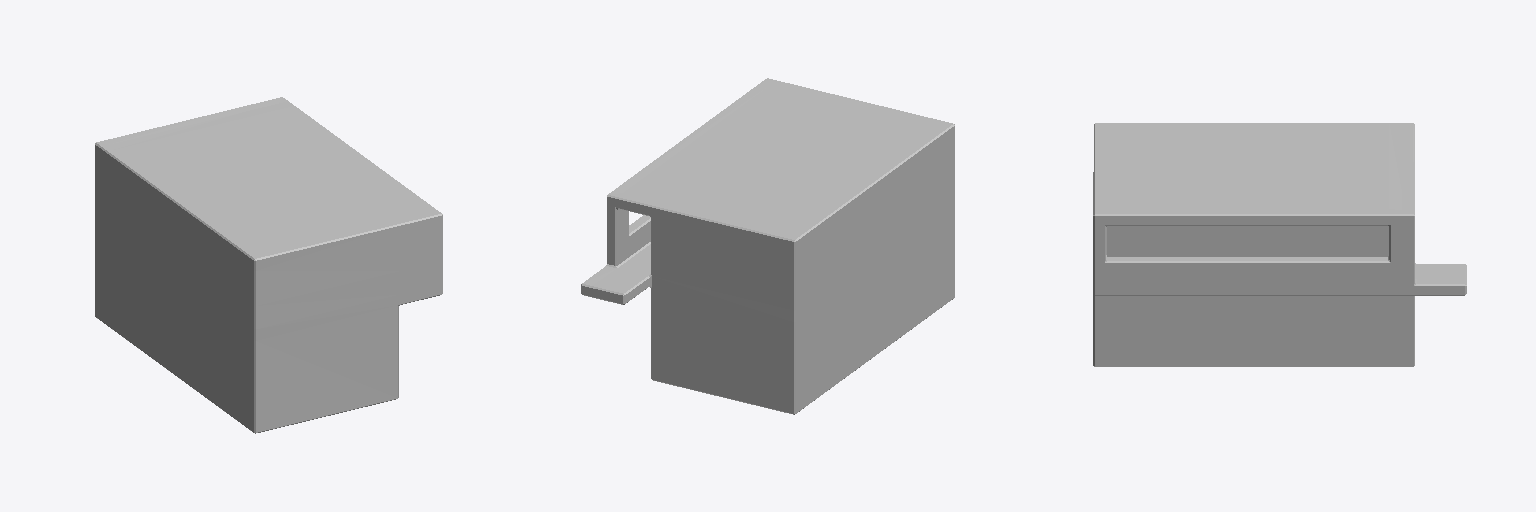
The model's file is Hostel.obj.
3 renders of one model, left to right at view 1: azimuth 30°, elevation 25°; view 2: azimuth 150°, elevation 25°; view 3: azimuth 270°, elevation 25°, orthographic.
Visible parts, largest first — view 1: Hostel_Cube.029; view 2: Hostel_Cube.029; view 3: Hostel_Cube.029.
Part boxes in pixels (bbox=[...]): Hostel_Cube.029: bbox=[95, 97, 442, 433]; Hostel_Cube.029: bbox=[581, 78, 954, 414]; Hostel_Cube.029: bbox=[1093, 123, 1466, 366].
Size of the model in its own units: 8.49 by 7.5 by 14.49.